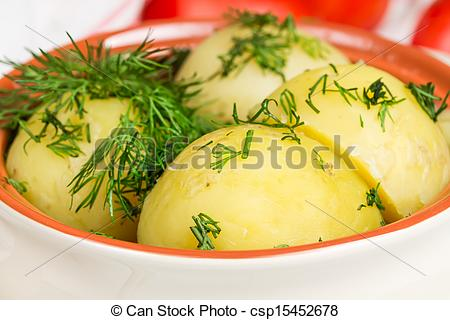boiled potatoes: (262, 56, 445, 203), (146, 130, 365, 251), (18, 76, 162, 210), (187, 28, 339, 112)
